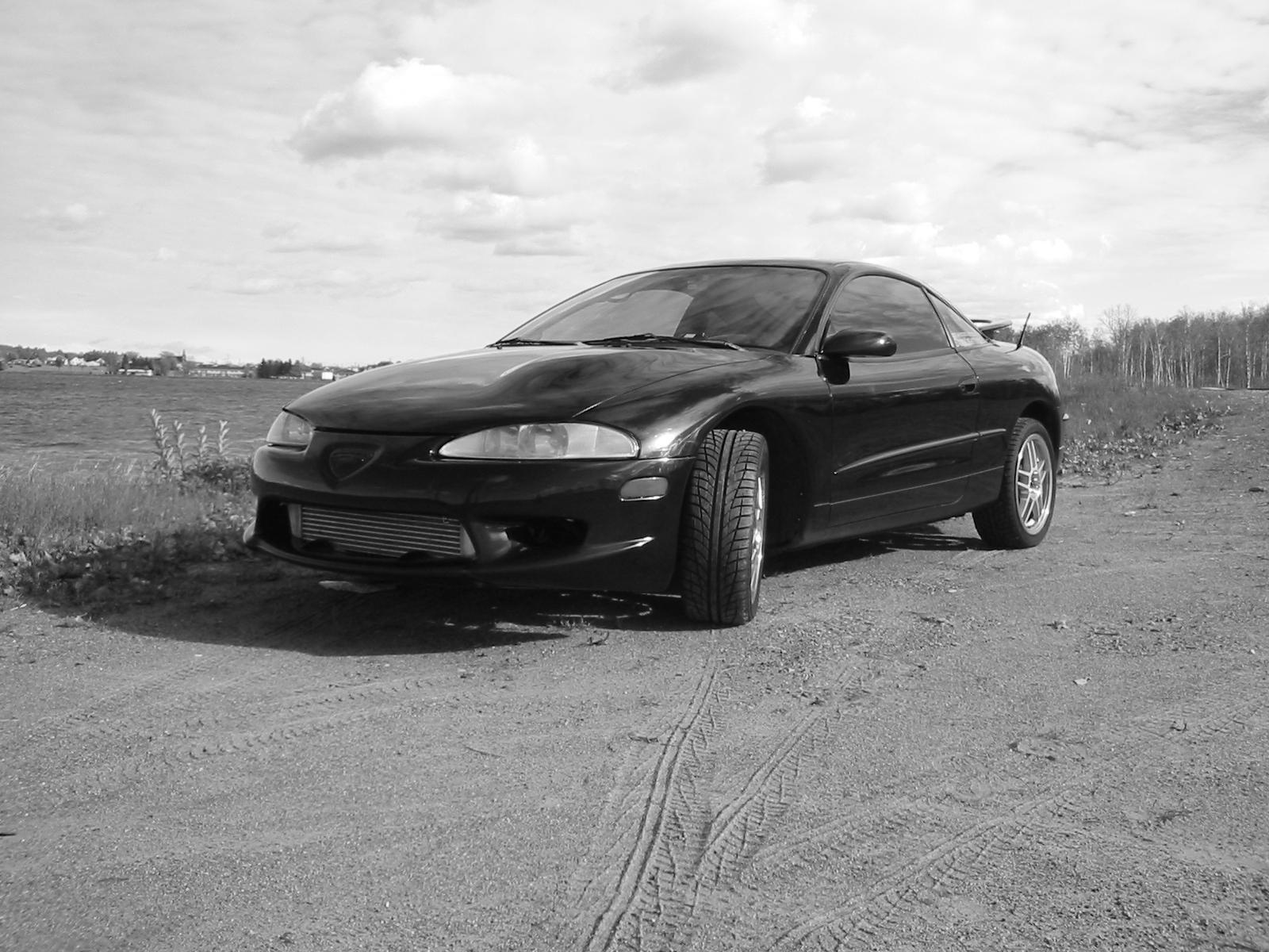car: (236, 255, 1067, 634)
